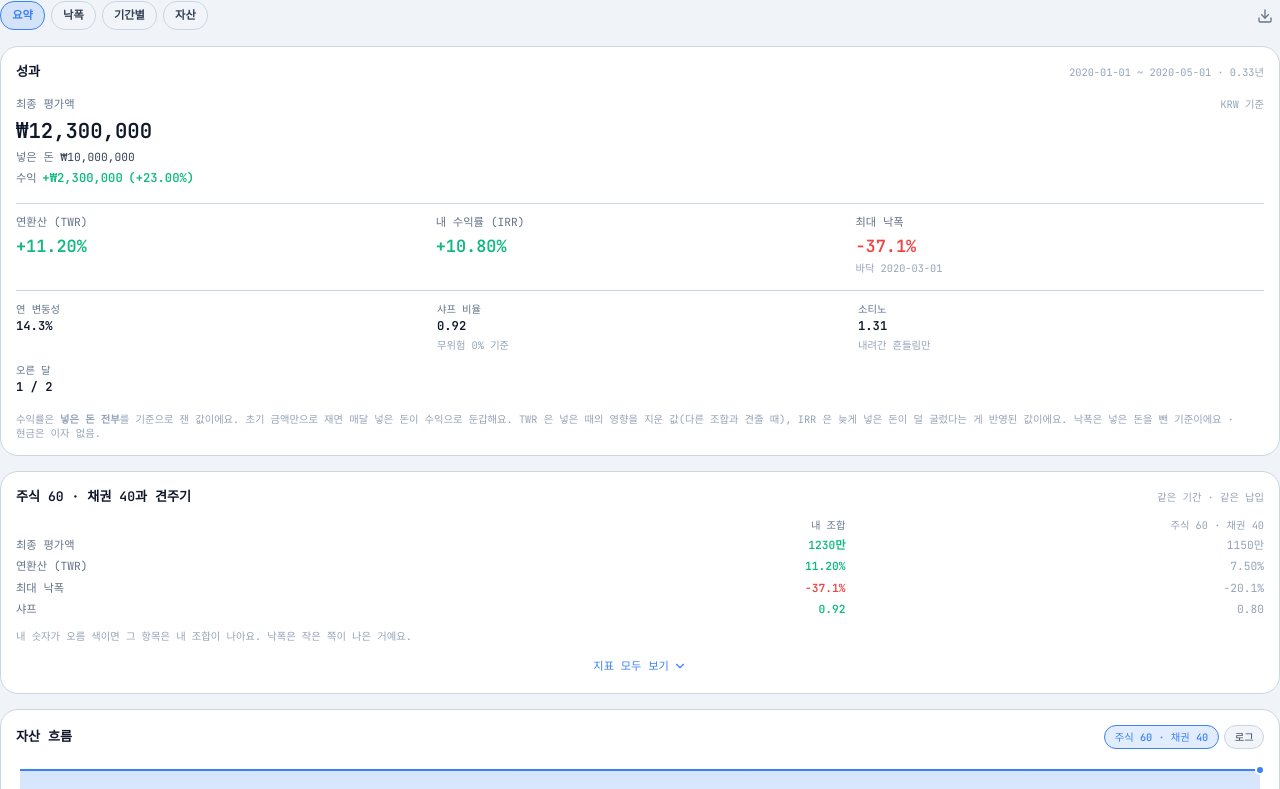
Test: 폭락 때 어땠나 › 벤치마크 낙폭과 나란히 놓는다
The width and height of the screenshot is (1280, 789).
Click the tab "낙폭". click: (73,16)
box: [51,1,96,30]
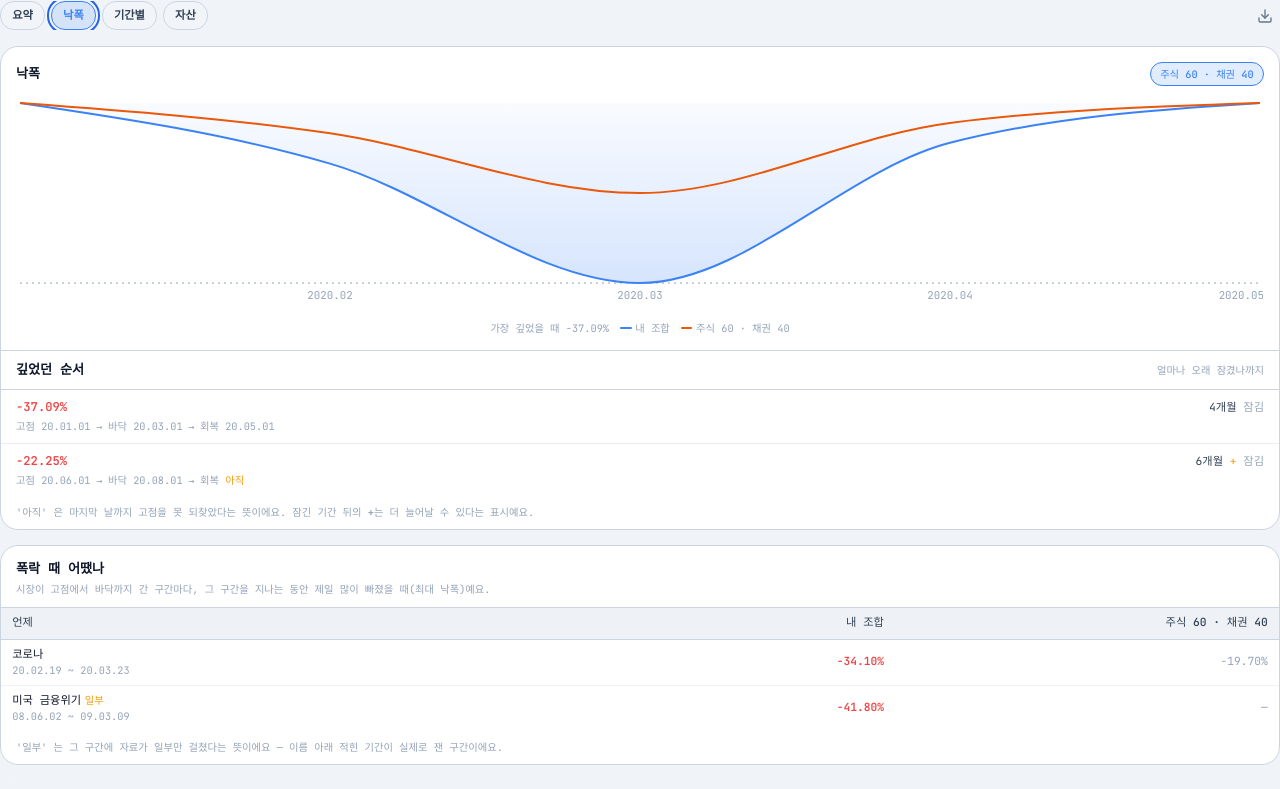
Check: the text "-19.70%" is shown, box [895,639,1279,685]
